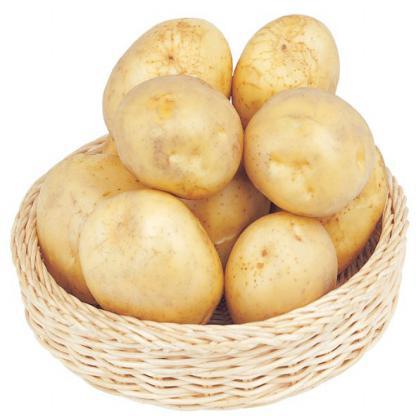potato: (72, 186, 245, 326), (233, 72, 384, 226), (114, 76, 252, 194), (228, 209, 345, 326)
